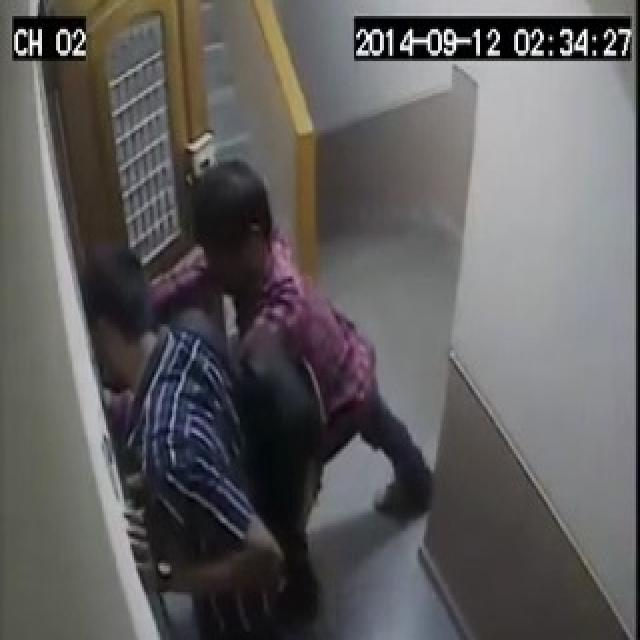thief: (58, 179, 417, 571)
